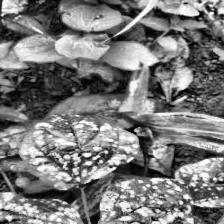Bean Rust: (17, 114, 145, 184), (99, 177, 209, 224), (169, 149, 224, 209), (0, 190, 87, 224)
